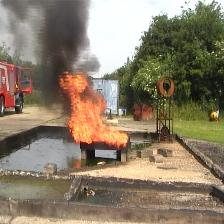fire: (60, 82, 128, 146)
smoke: (39, 3, 86, 66)
